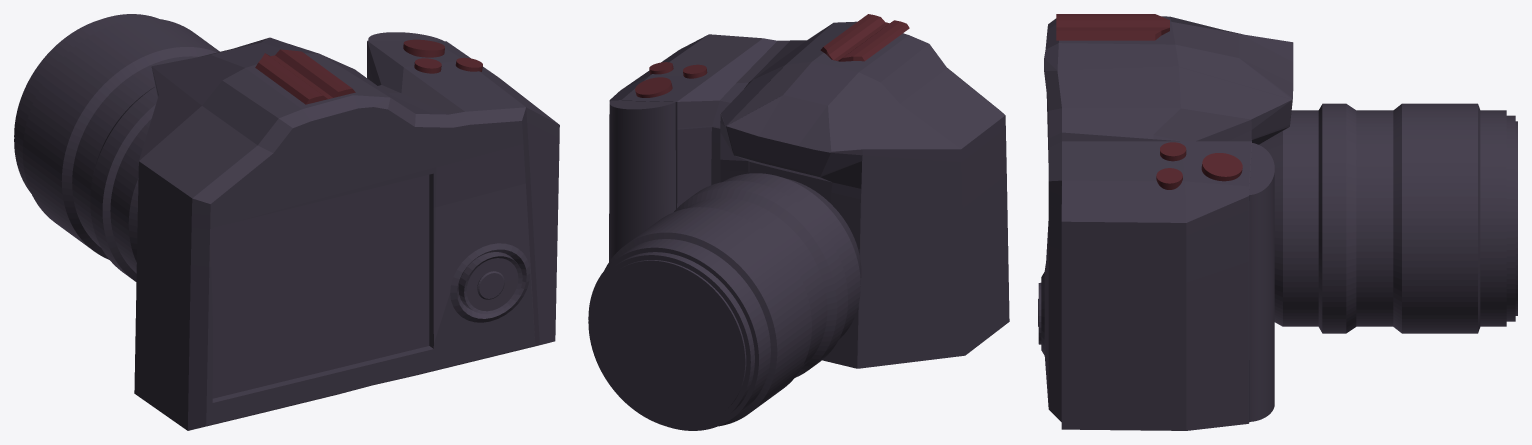
The model's file is Камера.fbx.
3 renders of one model, left to right at view 1: azimuth 30°, elevation 25°; view 2: azimuth 150°, elevation 25°; view 3: azimuth 270°, elevation 25°, orthographic. The views are drawn at different scales.
Visible parts, largest first — view 1: Cube, Cylinder, Cube.001, Cylinder.004, Cylinder.001; view 2: Cube, Cylinder, Cylinder.001, Cube.001, Cylinder.004; view 3: Cube, Cylinder, Cylinder.001, Cube.001, Cylinder.004, Cylinder.003.
Boxes of the visible parts, left/top/right/bottom form: Cube: left=134, top=37, right=559, bottom=430; Cylinder: left=14, top=14, right=219, bottom=281; Cube.001: left=255, top=49, right=355, bottom=104; Cylinder.004: left=403, top=39, right=444, bottom=57; Cylinder.001: left=368, top=32, right=443, bottom=41; Cube: left=609, top=21, right=1009, bottom=368; Cylinder: left=588, top=173, right=861, bottom=430; Cylinder.001: left=609, top=100, right=675, bottom=261; Cube.001: left=820, top=14, right=909, bottom=61; Cylinder.004: left=635, top=77, right=672, bottom=97; Cube: left=1038, top=16, right=1293, bottom=430; Cylinder: left=1259, top=103, right=1517, bottom=333; Cylinder.001: left=1249, top=143, right=1274, bottom=421; Cube.001: left=1056, top=14, right=1169, bottom=40; Cylinder.004: left=1201, top=153, right=1242, bottom=181; Cylinder.003: left=1156, top=168, right=1182, bottom=189.
Bounding box in the file's own units: 632 × 490 × 715.
